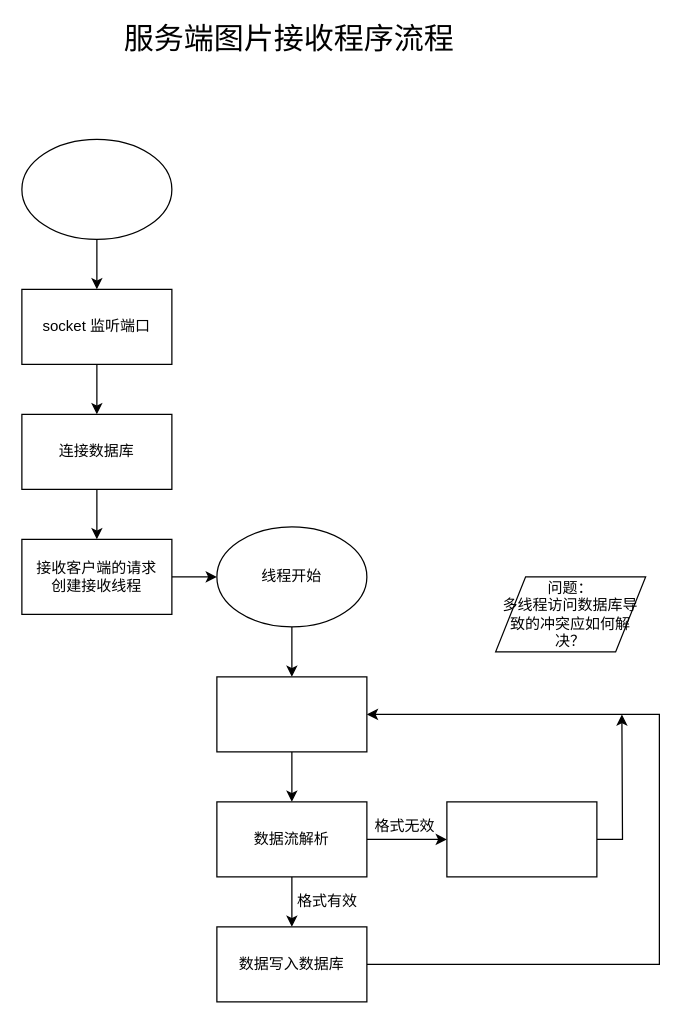
The diagram is 691 pixels wide and 1024 high, and some of its shapes have lost their labels. Here are the shapes that lost their labels. From the top down, the box of each, then its label:
(21, 138, 172, 239): 开始
(216, 676, 367, 752): socket 依次接收单个字符
(446, 801, 597, 877): 丢弃
